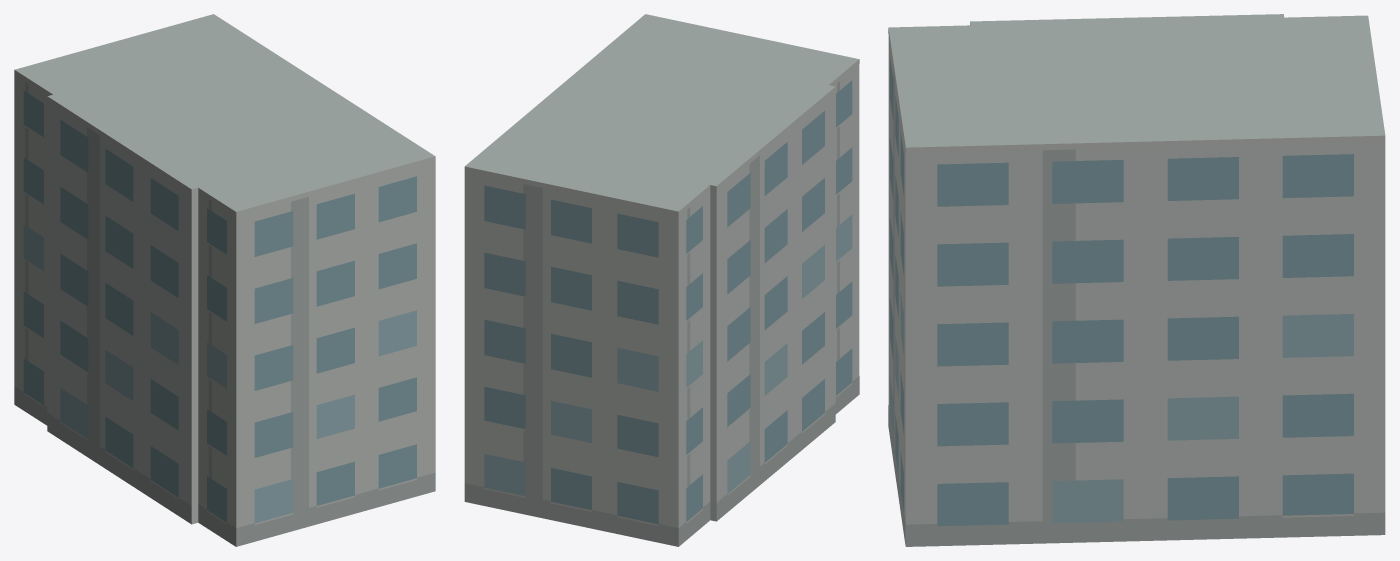
The model's file is survey-upis-32982151.glb.
3 views of the same model, side by side, from view 1: azimuth 30°, elevation 25°; view 2: azimuth 150°, elevation 25°; view 3: azimuth 270°, elevation 25° (orthographic). The views are drawn at different scales.
Visible parts, largest first — view 1: survey-upis-32982151.tmp; view 2: survey-upis-32982151.tmp; view 3: survey-upis-32982151.tmp.
Part boxes in pixels (<box>): survey-upis-32982151.tmp: <box>14,14,435,546</box>; survey-upis-32982151.tmp: <box>464,14,859,546</box>; survey-upis-32982151.tmp: <box>888,14,1385,546</box>.
Bounding box in the file's own units: 11.49 × 16 × 18.06.
